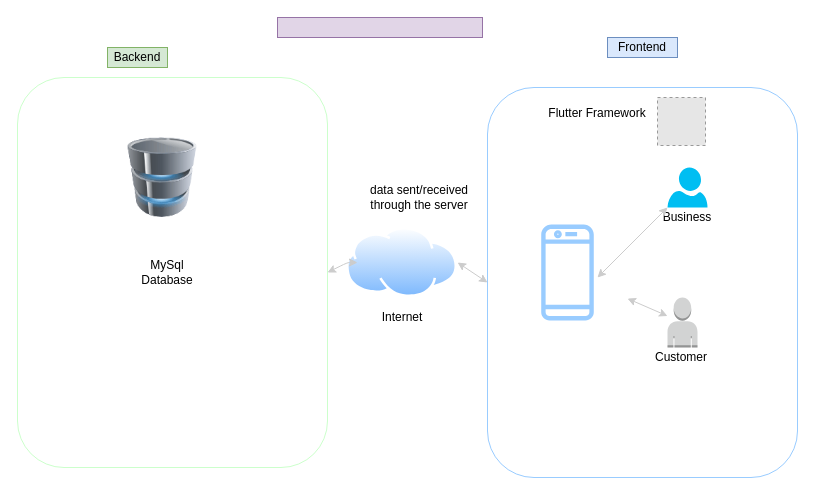
Image size: 815x495. Some labels were removed from this diagram. Grey dashed boxes stand in for pictures. The shapes that lost their labels are listed below. From the top down, each one's box as (x1, y1, x2, y2) in pixels, then its label:
(276, 16, 482, 38): Custy Care Mobile Application
(506, 212, 628, 332): Mobile client
